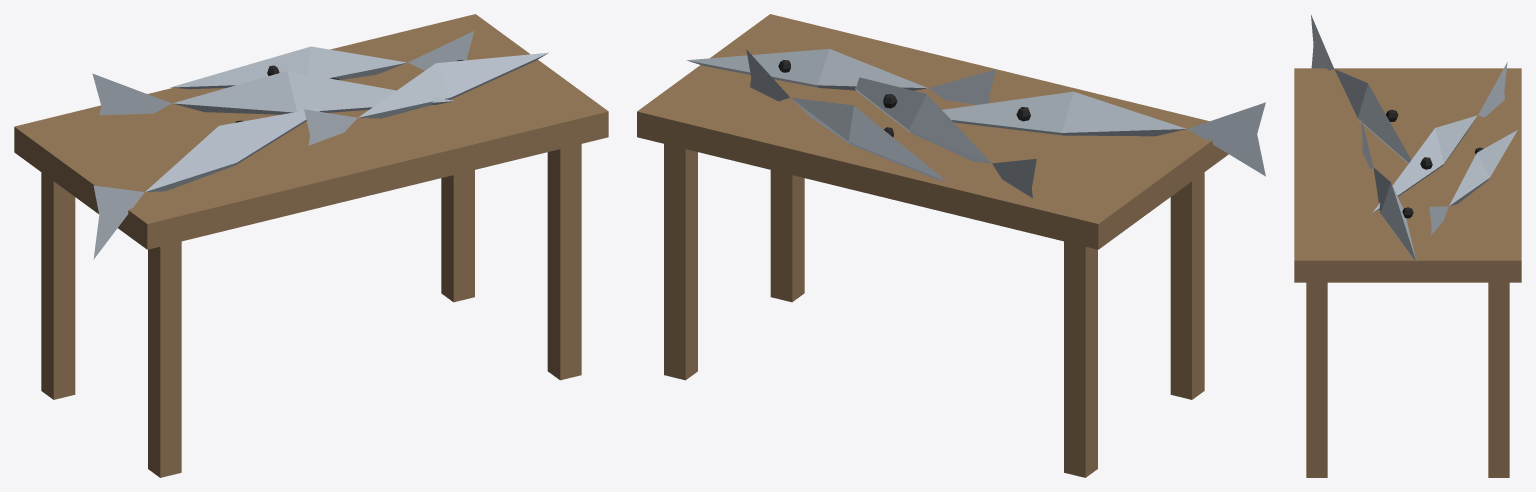
Rendered from market_table_fish.glb.
3 renders of one model, left to right at view 1: azimuth 30°, elevation 25°; view 2: azimuth 150°, elevation 25°; view 3: azimuth 270°, elevation 25°, orthographic. The views are drawn at different scales.
Visible parts, largest first — view 1: mkt_table_top, mkt_table_leg.002, fish_2, mkt_table_leg, mkt_table_leg.001, fish_1, fish_3, fish_4, mkt_table_leg.003; view 2: mkt_table_top, fish_1, mkt_table_leg.001, mkt_table_leg.003, mkt_table_leg, fish_3, fish_2, fish_4, mkt_table_leg.002; view 3: mkt_table_top, mkt_table_leg.002, mkt_table_leg.003, fish_2, fish_1, fish_4, fish_3.
Boxes of the visible parts, box(x1,y1,x2,y2) form: mkt_table_top: box(14, 14, 608, 249); mkt_table_leg.002: box(547, 144, 581, 380); fish_2: box(92, 71, 454, 115); mkt_table_leg: box(148, 241, 181, 477); mkt_table_leg.001: box(41, 172, 75, 399); fish_1: box(93, 108, 319, 259); fish_3: box(304, 52, 548, 145); fish_4: box(170, 31, 474, 89); mkt_table_leg.003: box(441, 170, 474, 302); mkt_table_top: box(637, 14, 1228, 249); fish_1: box(942, 91, 1265, 176); mkt_table_leg.001: box(1064, 241, 1097, 477); mkt_table_leg.003: box(664, 144, 697, 380); mkt_table_leg: box(1170, 172, 1204, 399); fish_3: box(687, 49, 996, 104); fish_2: box(855, 77, 1036, 198); fish_4: box(746, 49, 946, 181); mkt_table_leg.002: box(770, 170, 804, 302); mkt_table_top: box(1294, 68, 1521, 282); mkt_table_leg.002: box(1306, 282, 1327, 477); mkt_table_leg.003: box(1488, 282, 1509, 477); fish_2: box(1373, 62, 1507, 212); fish_1: box(1311, 15, 1411, 163); fish_4: box(1429, 130, 1517, 235); fish_3: box(1361, 118, 1416, 262).
Size of the model in its own units: 1.68 by 0.951 by 0.75.
